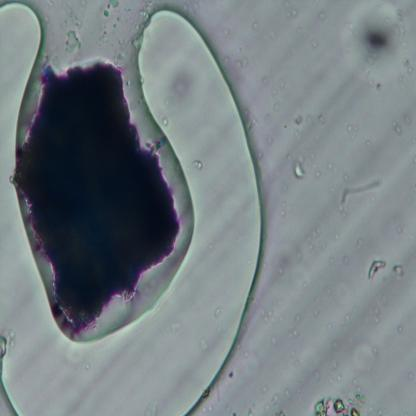Air bubble: (0, 3, 263, 414)
Background material: (345, 3, 410, 70), (160, 49, 193, 116), (340, 176, 386, 206), (342, 340, 378, 376), (311, 396, 365, 416), (58, 29, 87, 55), (366, 259, 388, 283), (104, 0, 124, 20), (245, 106, 261, 130), (139, 399, 160, 416), (281, 0, 299, 19), (5, 332, 17, 357), (295, 159, 306, 180), (393, 261, 406, 278), (304, 232, 314, 252), (198, 337, 210, 353), (293, 111, 305, 126), (263, 308, 275, 320), (192, 157, 203, 170), (336, 204, 346, 218), (270, 394, 280, 407), (374, 306, 381, 324), (269, 332, 278, 346), (364, 137, 374, 149), (276, 264, 285, 276), (233, 61, 248, 68), (280, 200, 286, 217), (213, 306, 223, 316), (312, 227, 322, 237), (318, 10, 327, 21), (82, 363, 92, 372), (162, 117, 171, 127), (342, 254, 350, 264), (312, 40, 320, 50), (288, 330, 298, 338), (294, 129, 301, 140), (295, 310, 302, 321), (332, 357, 338, 369), (275, 409, 285, 416), (274, 100, 280, 111), (332, 234, 340, 242), (326, 285, 332, 295), (286, 387, 291, 399), (314, 368, 320, 378), (292, 359, 300, 366), (328, 256, 334, 265), (337, 375, 343, 384), (112, 21, 118, 30), (272, 88, 278, 96), (408, 372, 414, 380), (312, 310, 320, 316), (280, 82, 286, 90), (340, 322, 346, 330), (398, 325, 404, 333), (316, 169, 321, 177), (328, 163, 333, 171), (320, 113, 324, 122), (282, 122, 287, 129), (327, 320, 331, 328), (346, 313, 350, 321), (354, 126, 360, 131), (354, 377, 358, 384), (358, 386, 361, 394), (349, 125, 352, 131)
Fragment: (23, 58, 180, 320)
